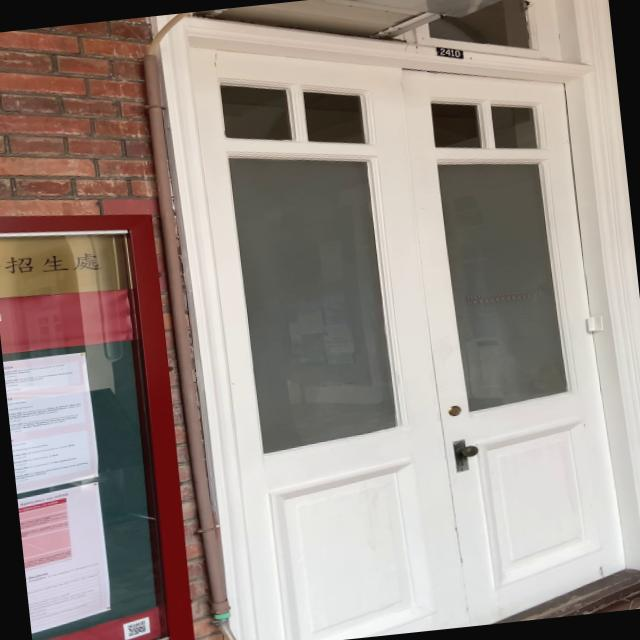room241d: (426, 38, 470, 64)
